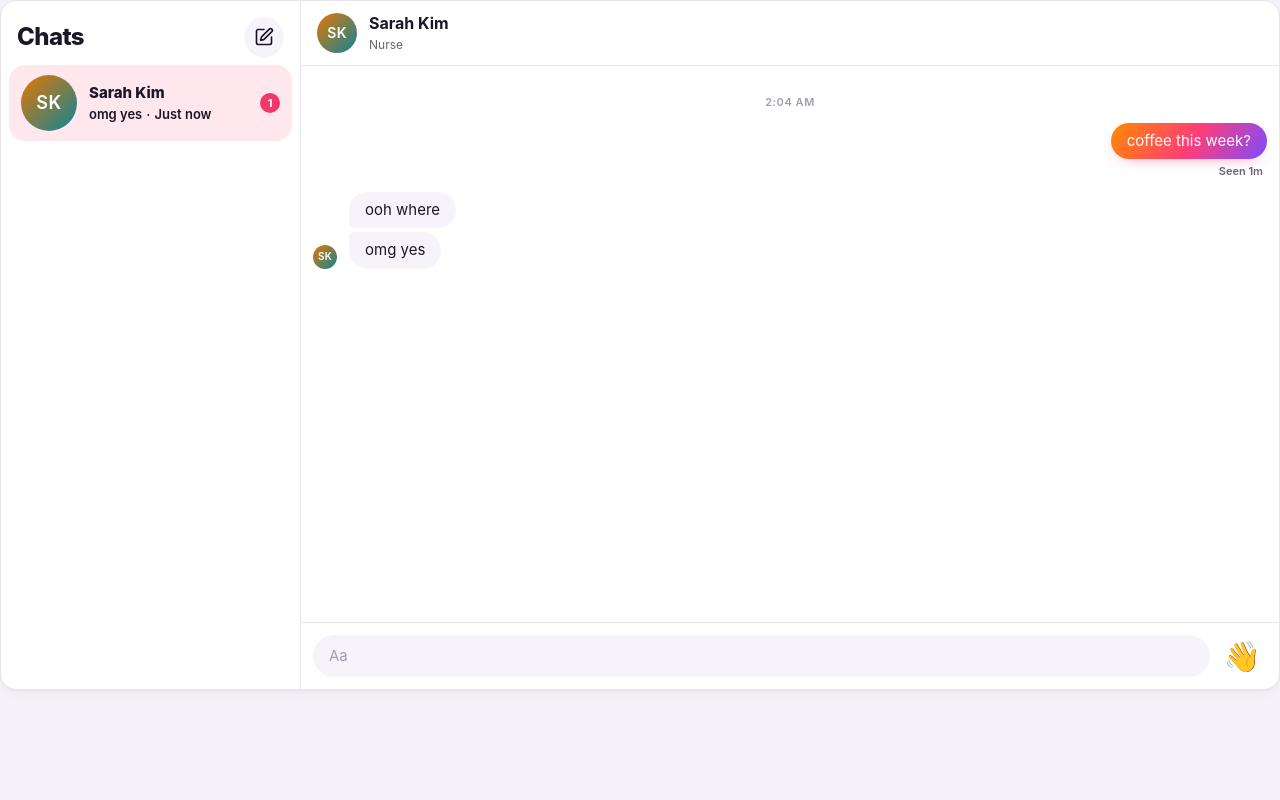
Scenario: MessengerPage › sends on Enter and shows R's message at once
The image size is (1280, 800).
Type "the place on Milwaukee?" into the text box named "Message Sarah Kim".
click(761, 656); type("the place on Milwaukee?")  # box [313,634,1210,677]
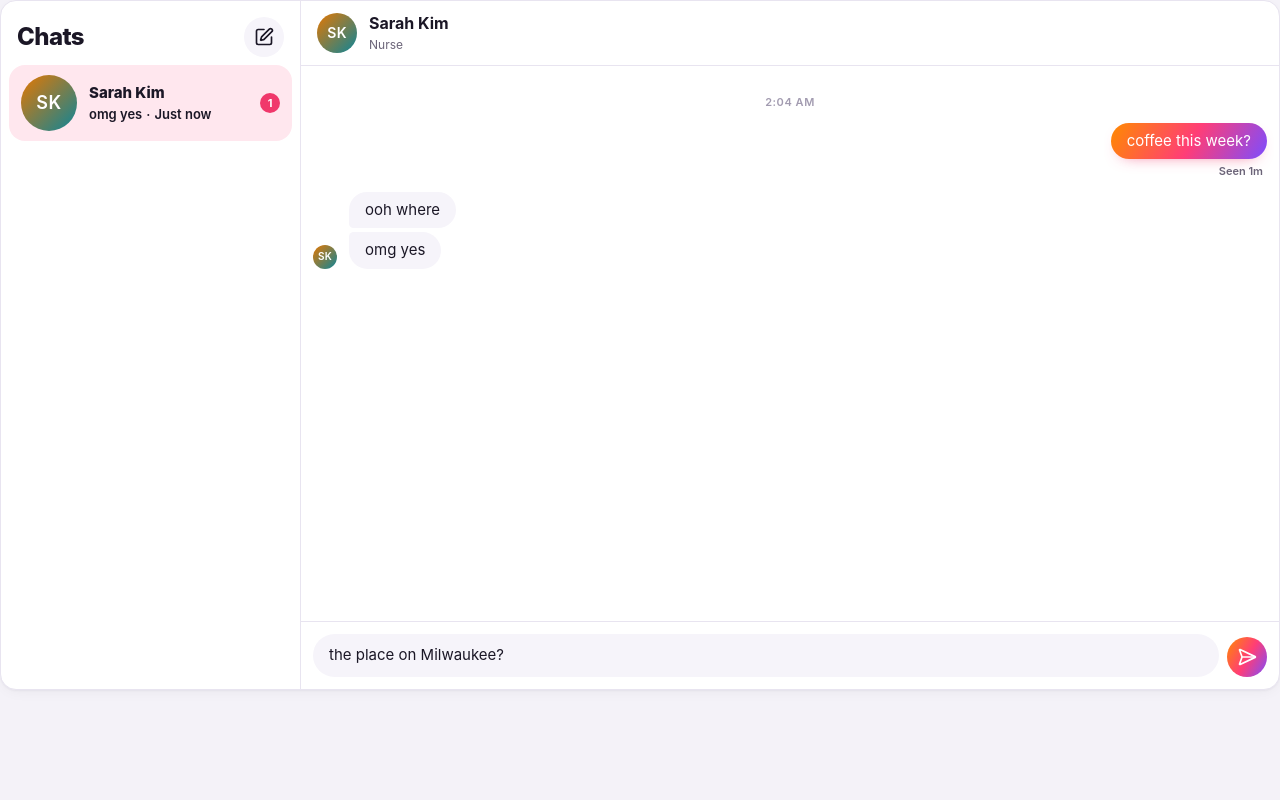
Press Enter in the text box named "Message Sarah Kim", box [313,634,1219,677]
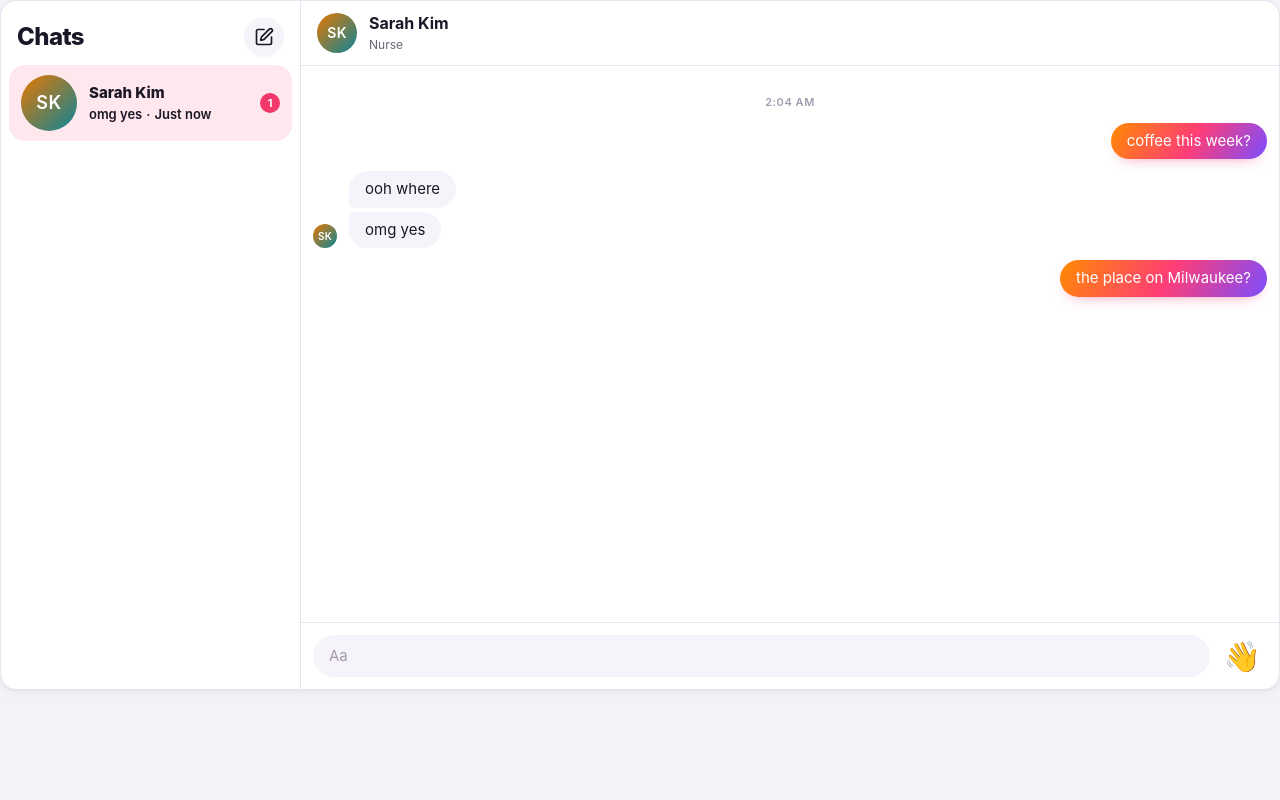
Result: the text "the place on Milwaukee?" is shown at [1060,260,1267,297]
